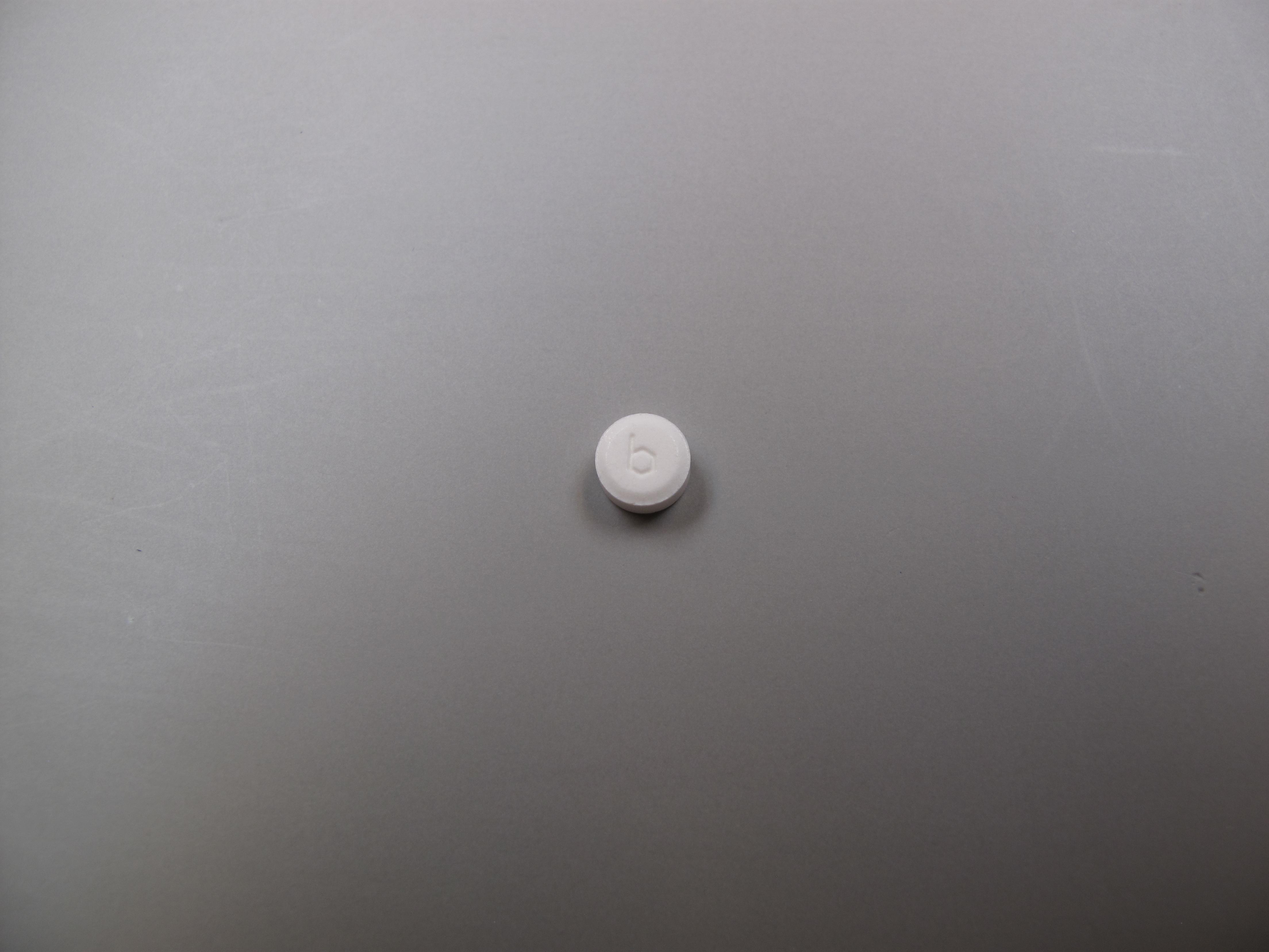Pill: (589, 408, 697, 524)
